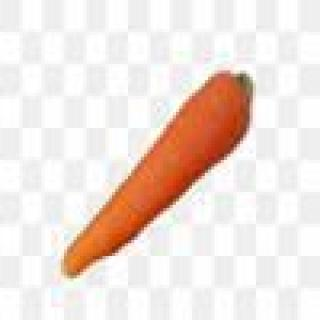Wortel: (43, 62, 273, 283)
